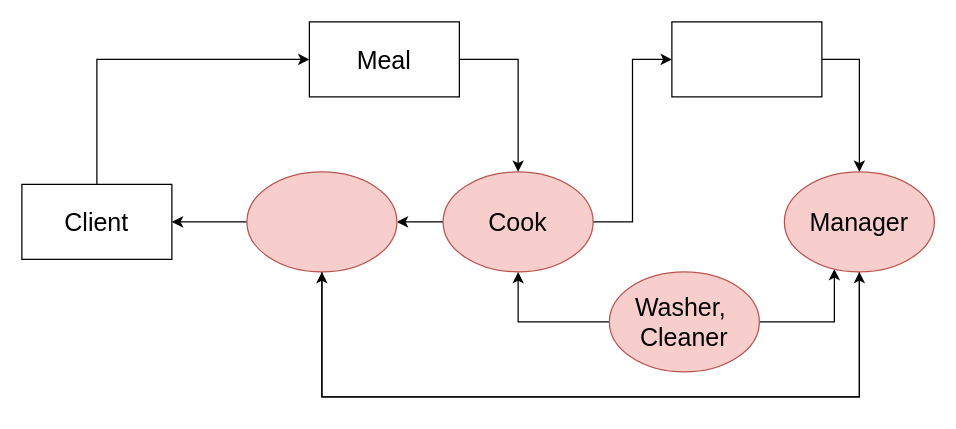
Some shapes in this 956 by 429 pixel diagram are drawn without their labels. The centre of each missing label's shape, as x and y in pixels:
Cashier: (x=321, y=221)
Ingridients: (x=746, y=59)
